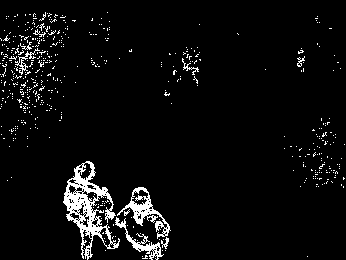person: (69, 158, 118, 256), (127, 185, 173, 260)
